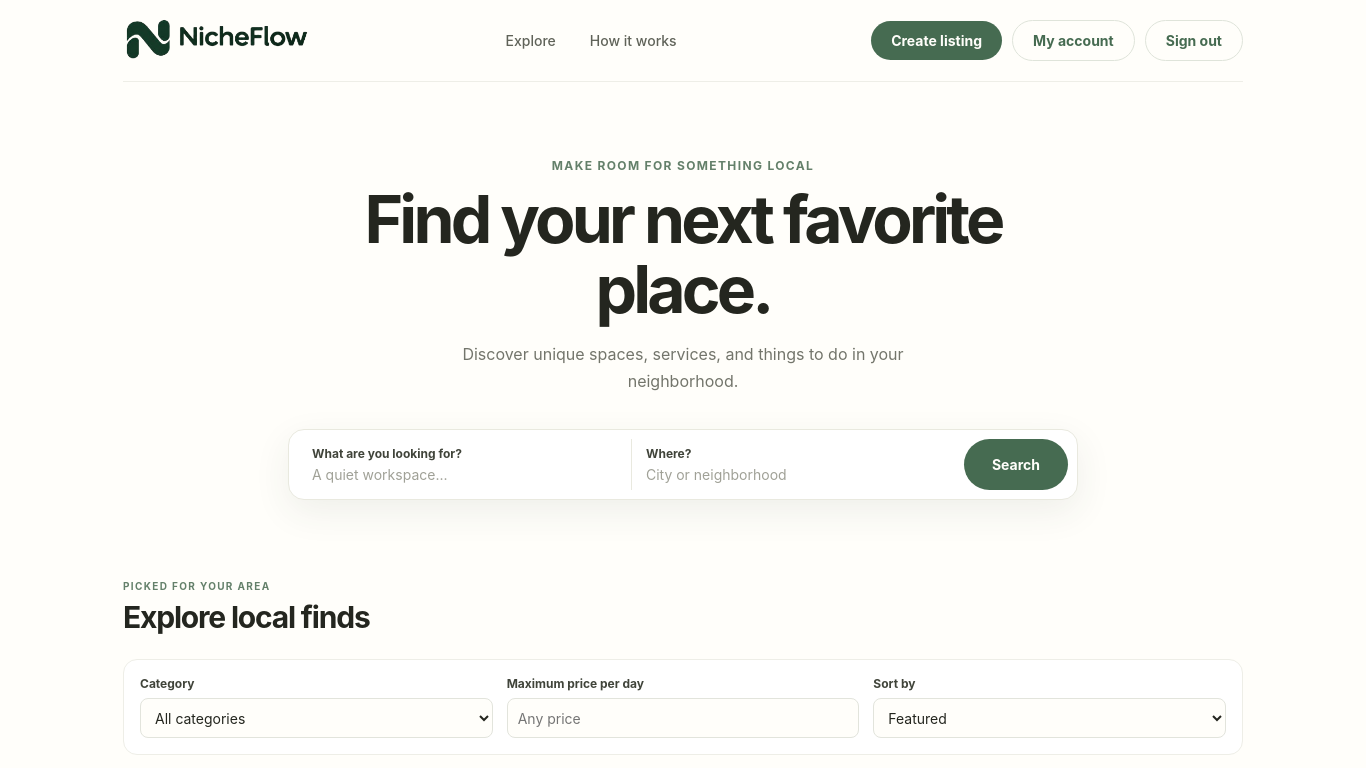
NicheFlow landing page › shows a pending booking requester's standing with other suppliers
Click the link "My account".
click(1073, 40)  # box 1012,20 -> 1135,61
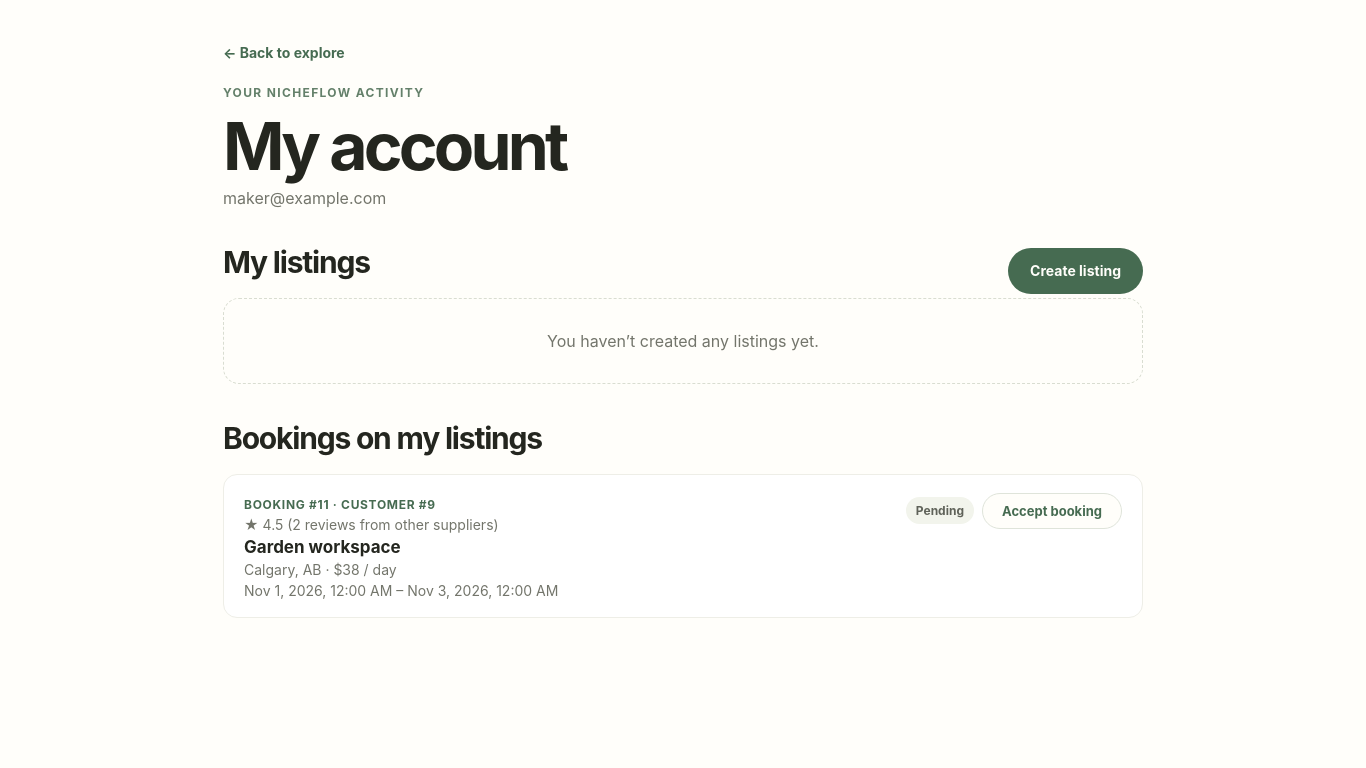
expect the text "★ 4.5 (2 reviews from other suppliers)" is shown: met, box 244,516 -> 499,533
